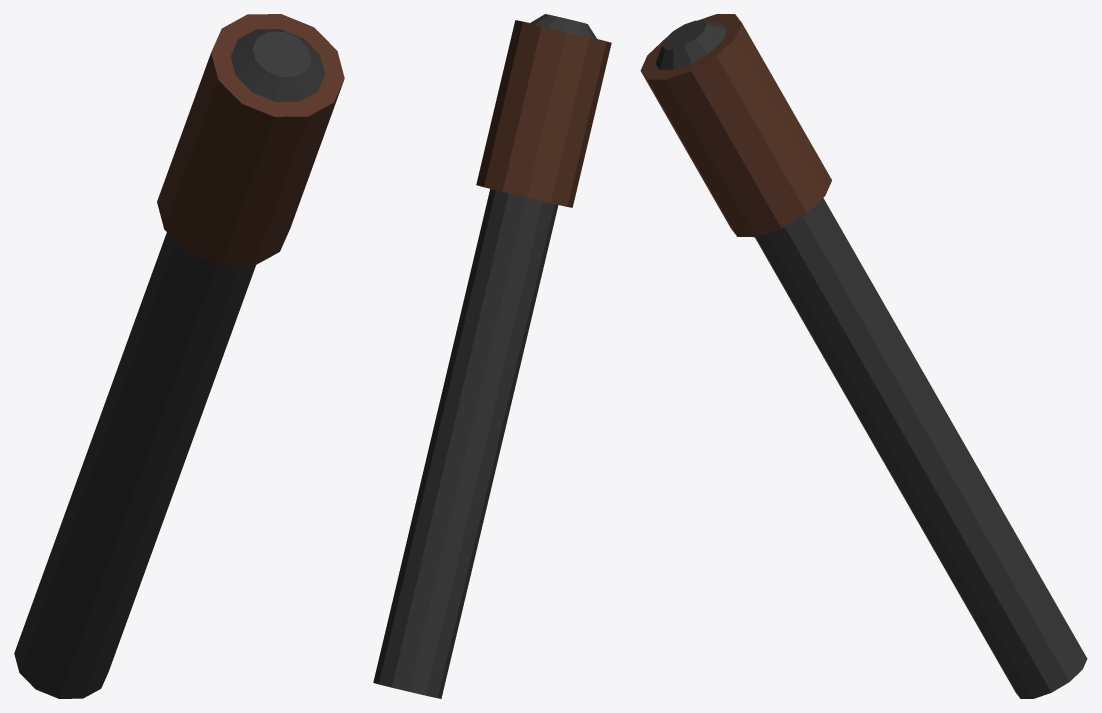
File: Lever.fbx
3 renders of one model, left to right at view 1: azimuth 30°, elevation 25°; view 2: azimuth 150°, elevation 25°; view 3: azimuth 270°, elevation 25°, orthographic. The views are drawn at different scales.
Visible parts, largest first — view 1: Levler; view 2: Levler; view 3: Levler.
Boxes of the visible parts, <box> form: Levler: <box>14,14,344,698</box>; Levler: <box>373,14,611,698</box>; Levler: <box>640,14,1087,698</box>.
Size of the model in its own units: 0.0987 by 0.6371 by 0.3854.
